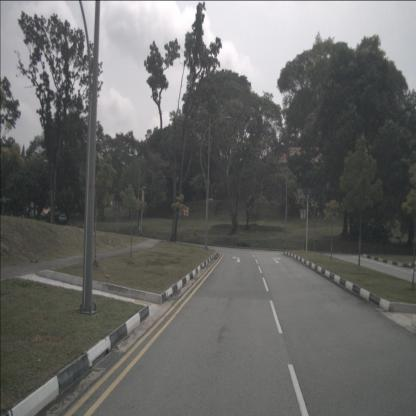vehicle-car: (46, 208, 67, 226)
